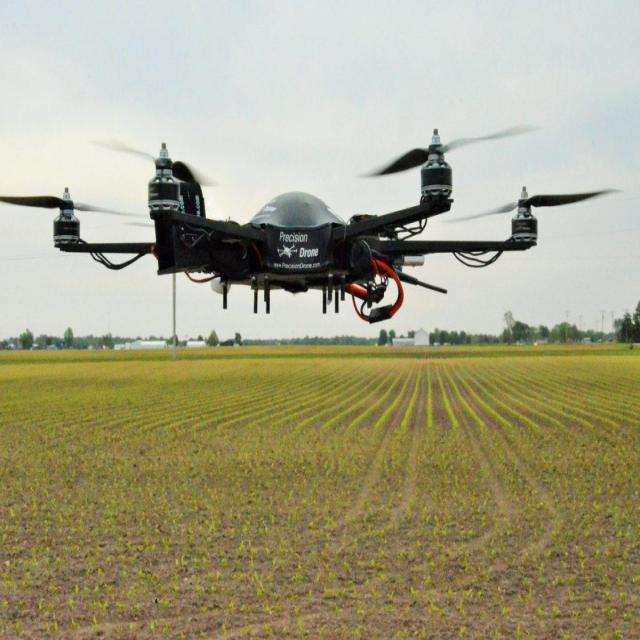drone: (0, 126, 622, 326)
